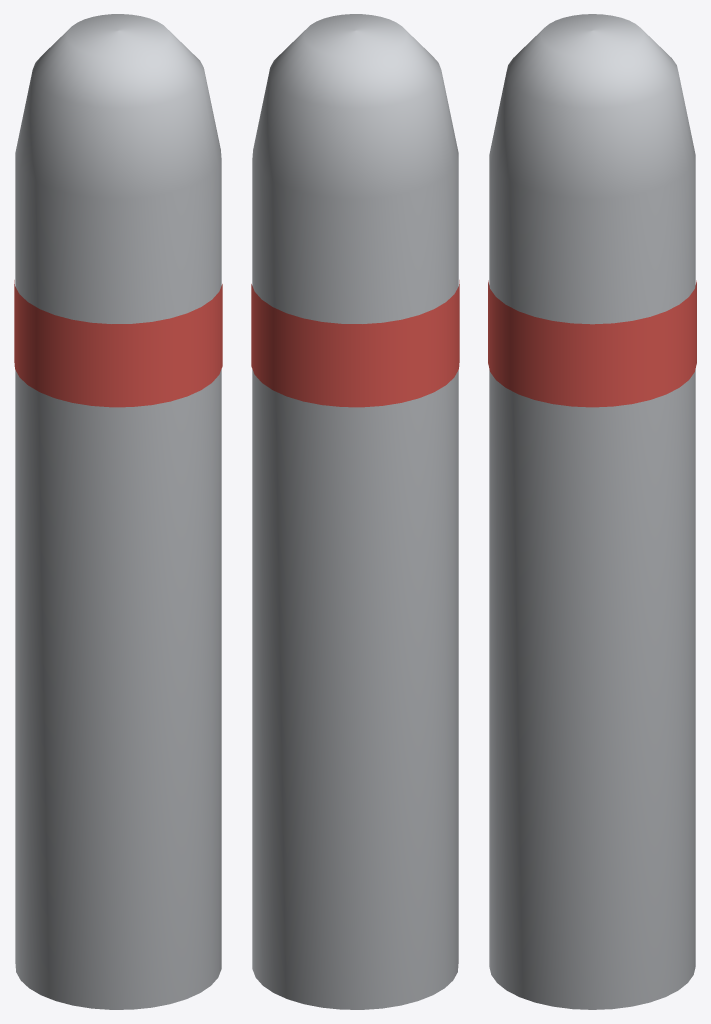
File: streetBollardMetal.glb
The picture shows the model from 3 angles, left to right: view 1: azimuth 30°, elevation 25°; view 2: azimuth 150°, elevation 25°; view 3: azimuth 270°, elevation 25°; orthographic projection.
Visible parts, largest first — view 1: streetBollardMetal; view 2: streetBollardMetal; view 3: streetBollardMetal.
Boxes of the visible parts, x1,y1,x2,y2 form: streetBollardMetal: [14, 14, 222, 1009]; streetBollardMetal: [251, 14, 459, 1009]; streetBollardMetal: [488, 14, 696, 1009].
Bounding box in the file's own units: 0.182 × 0.9 × 0.182.
